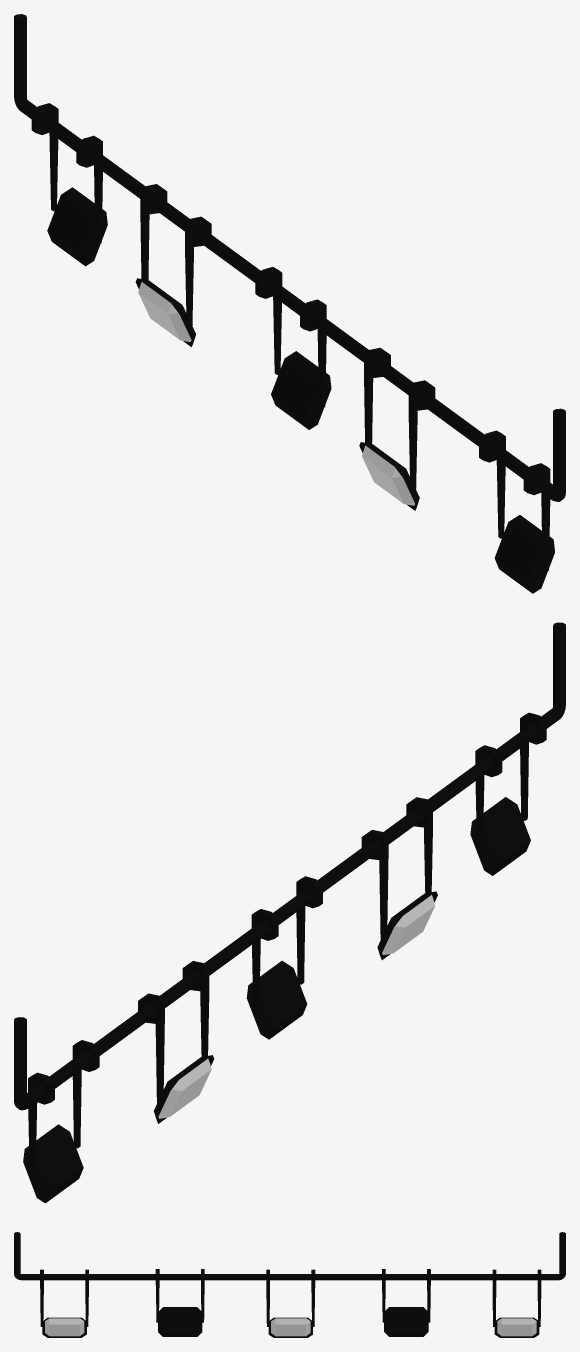
File: StripLights_On.glb
The picture shows the model from 3 angles, top to bottom: view 1: azimuth 30°, elevation 25°; view 2: azimuth 150°, elevation 25°; view 3: azimuth 270°, elevation 25°; orthographic projection. The views are drawn at different scales.
Visible parts, largest first — view 1: stripLights; view 2: stripLights; view 3: stripLights.
Boxes of the visible parts, x1,y1,x2,y2 form: stripLights: (14, 14, 565, 593); stripLights: (14, 622, 565, 1203); stripLights: (14, 1232, 565, 1337).
Bounding box in the file's own units: 0.197 × 0.8289 × 4.
1 material, 1 textured.
